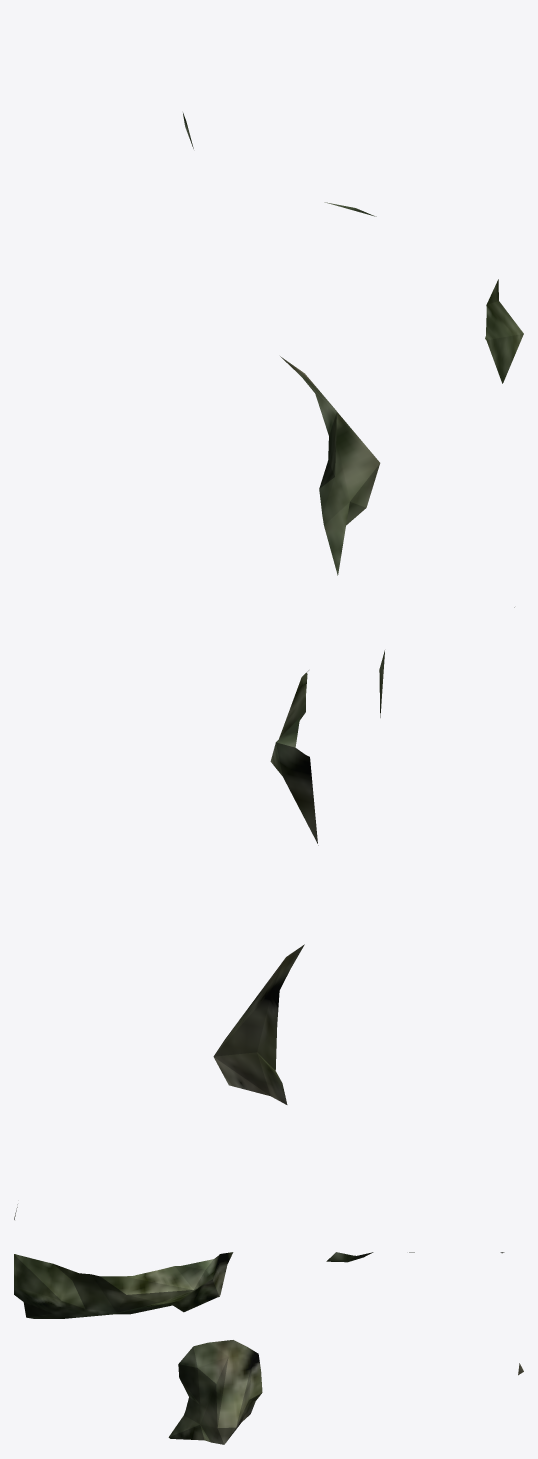
3 views of the same model, one above another, from view 1: azimuth 30°, elevation 25°; view 2: azimuth 150°, elevation 25°; view 3: azimuth 270°, elevation 25° (orthographic). The views are drawn at different scales.
Size of the model in its own units: 0.2164 by 0.6886 by 1.7.
Materials: 1 (1 with a texture image).
